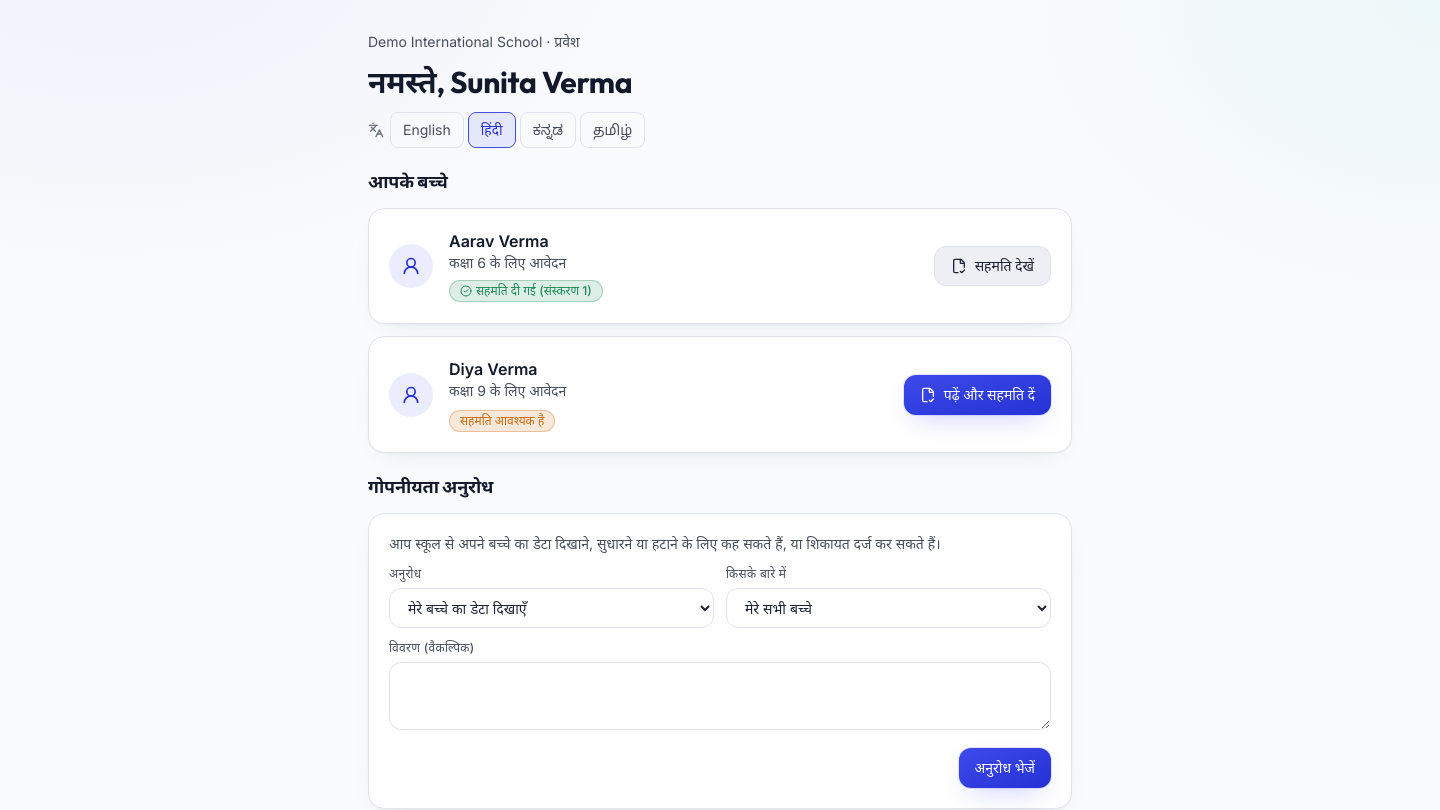
ParentPortal › renders in Hindi and switches to Tamil
Check: the heading "नमस्ते, Sunita Verma" is shown, box 368,63 -> 632,101
Check: the text "कक्षा 9 के लिए आवेदन" is shown, box 449,382 -> 566,399
Click the radio button labelled "தமிழ்".
click(613, 130)  # box 580,112 -> 645,148
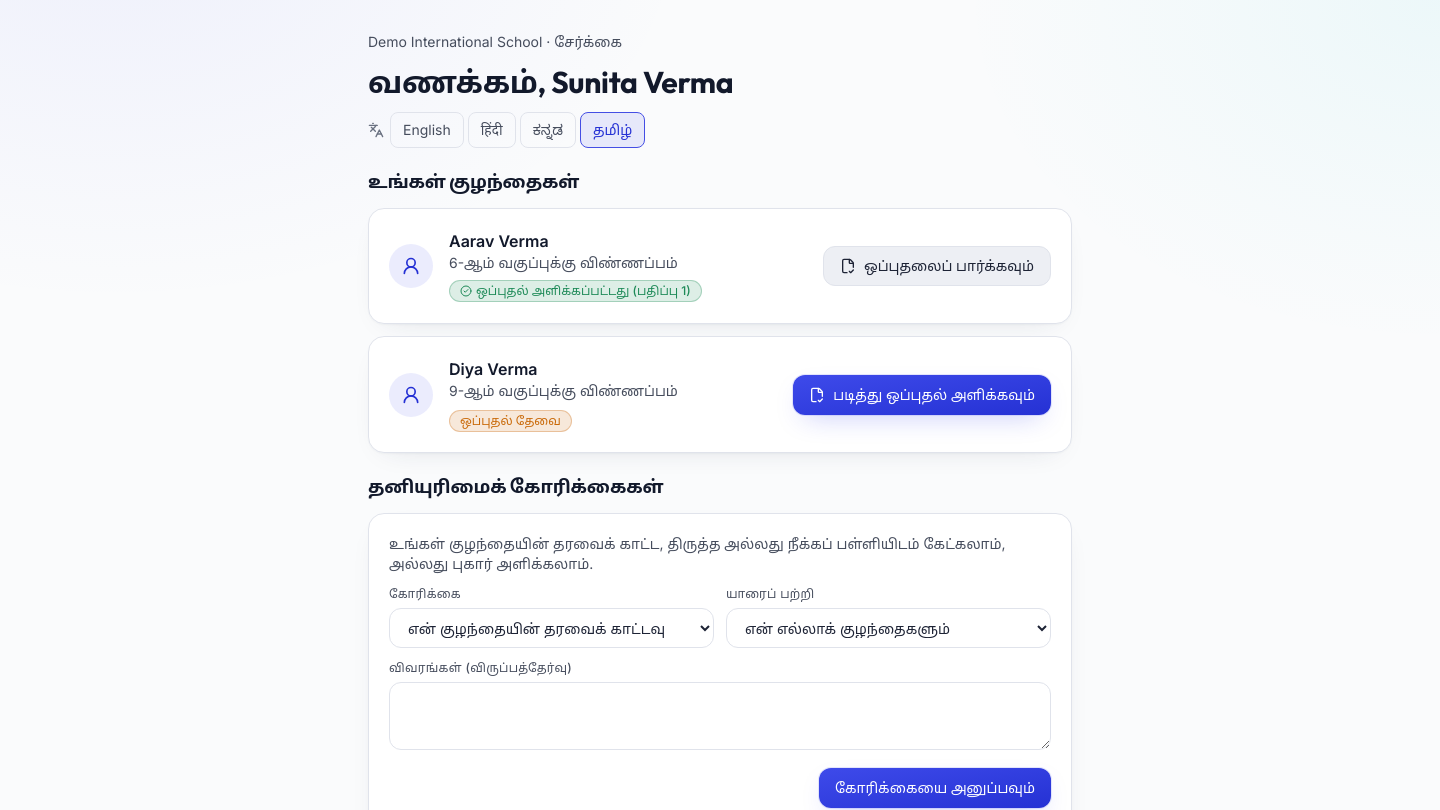
Check: the heading "வணக்கம், Sunita Verma" is shown, box 368,63 -> 733,101
